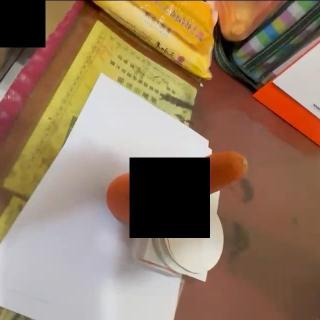carrot: (108, 150, 248, 217)
